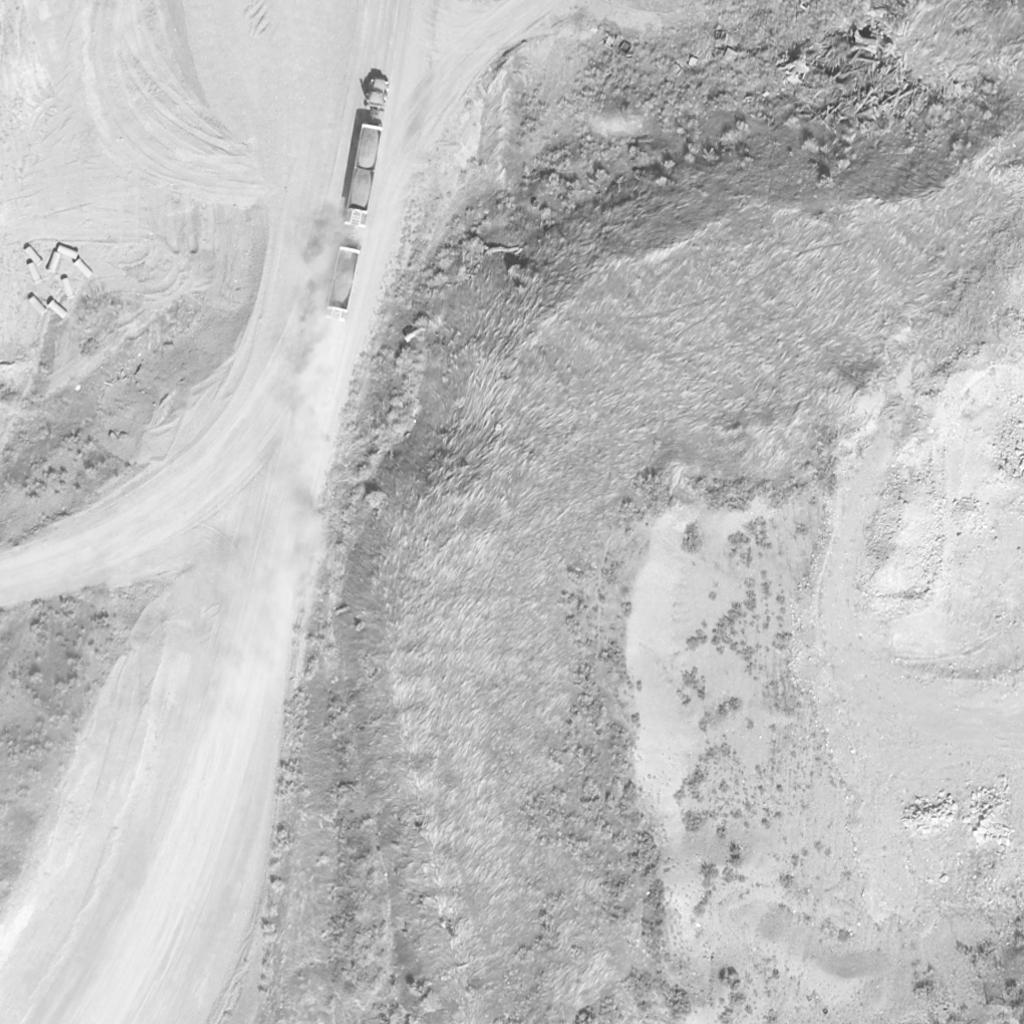vehicle: (343, 77, 395, 227)
